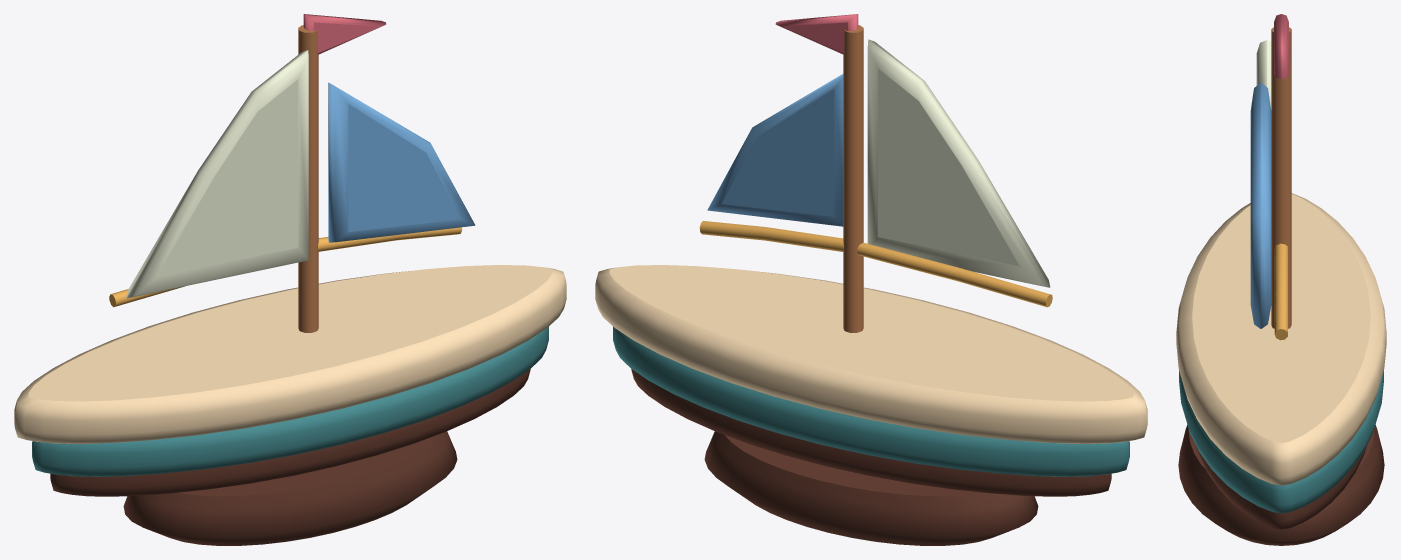
The model's file is atelier_sailboat.glb.
3 renders of one model, left to right at view 1: azimuth 30°, elevation 25°; view 2: azimuth 150°, elevation 25°; view 3: azimuth 270°, elevation 25°, orthographic.
Parts seen in each view (by area): view 1: Velero a escala; view 2: Velero a escala; view 3: Velero a escala.
Part boxes in pixels (box(x1,y1,x2,y2)): Velero a escala: box(14, 14, 566, 545); Velero a escala: box(595, 14, 1147, 545); Velero a escala: box(1176, 14, 1386, 545).
Bounding box in the file's own units: 0.92 × 0.771 × 0.3078.
